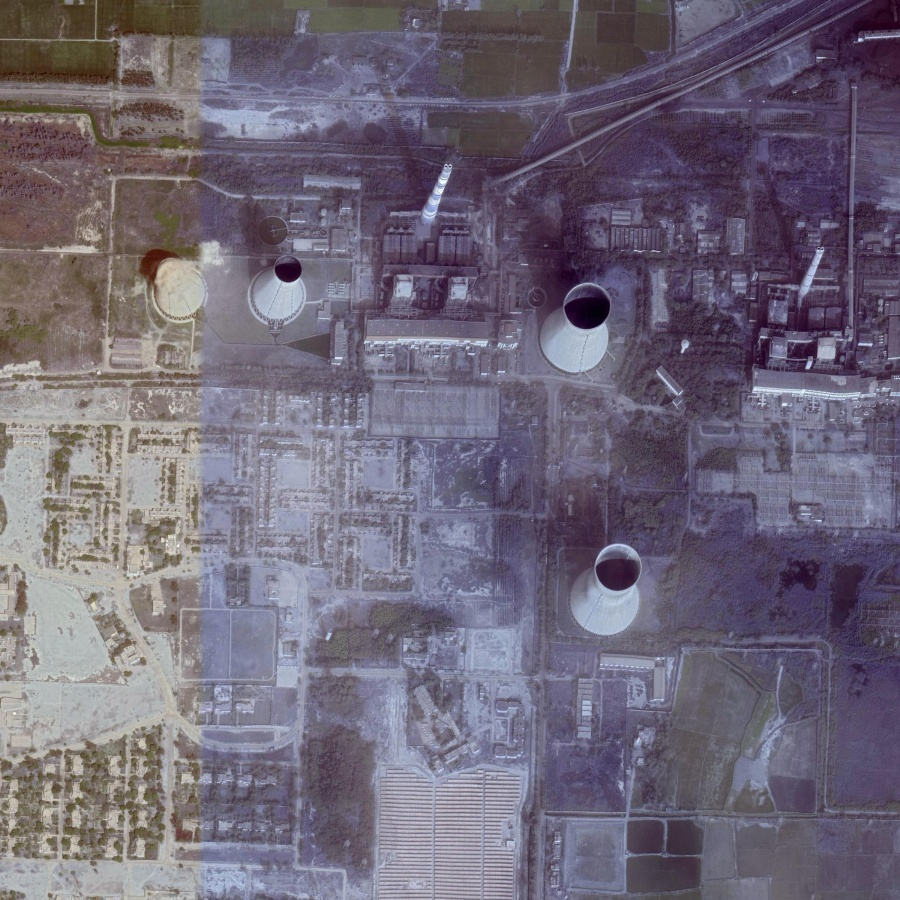PowerPlant: (143, 86, 619, 382), (550, 531, 794, 805)
